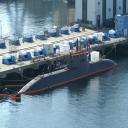submarine: (21, 45, 118, 94)
